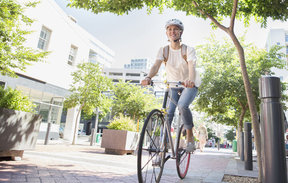bikerider: (128, 15, 205, 182)
